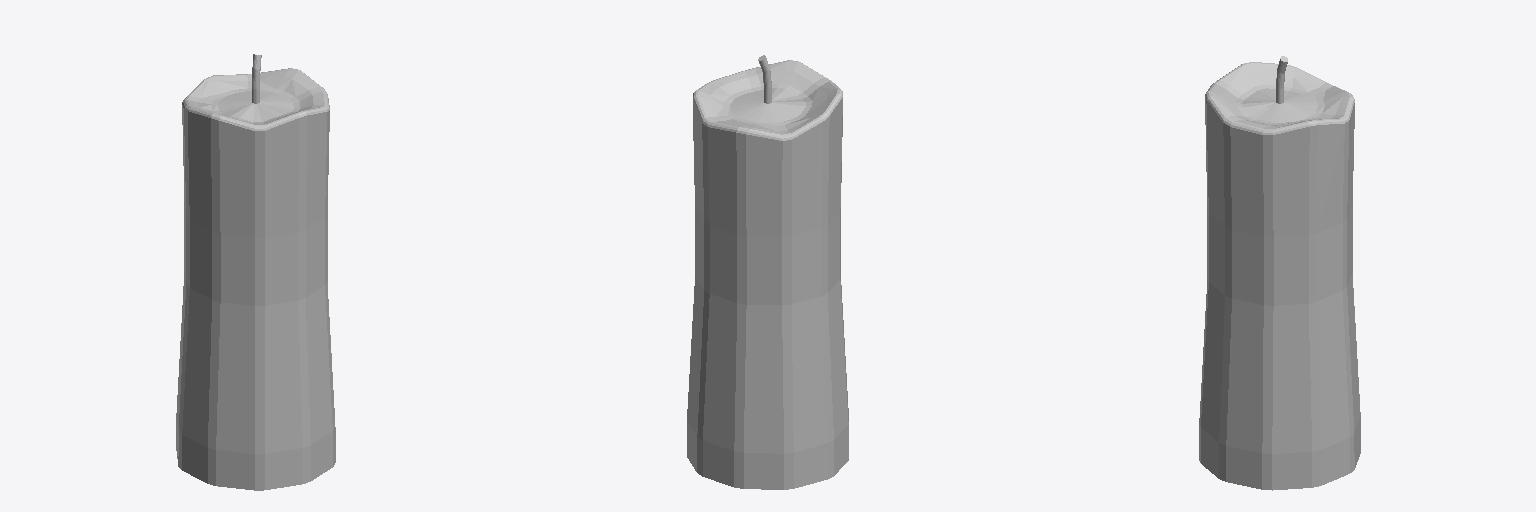
File: candle2_lp.obj
3 renders of one model, left to right at view 1: azimuth 30°, elevation 25°; view 2: azimuth 150°, elevation 25°; view 3: azimuth 270°, elevation 25°, orthographic.
Parts seen in each view (by area): view 1: candle2_lp:polySurface2; view 2: candle2_lp:polySurface2; view 3: candle2_lp:polySurface2.
Part boxes in pixels (x1,y1,x2,y2): candle2_lp:polySurface2: (176, 54, 335, 490); candle2_lp:polySurface2: (687, 55, 848, 489); candle2_lp:polySurface2: (1199, 56, 1360, 490).
Size of the model in its own units: 0.7556 by 2.06 by 0.7556.